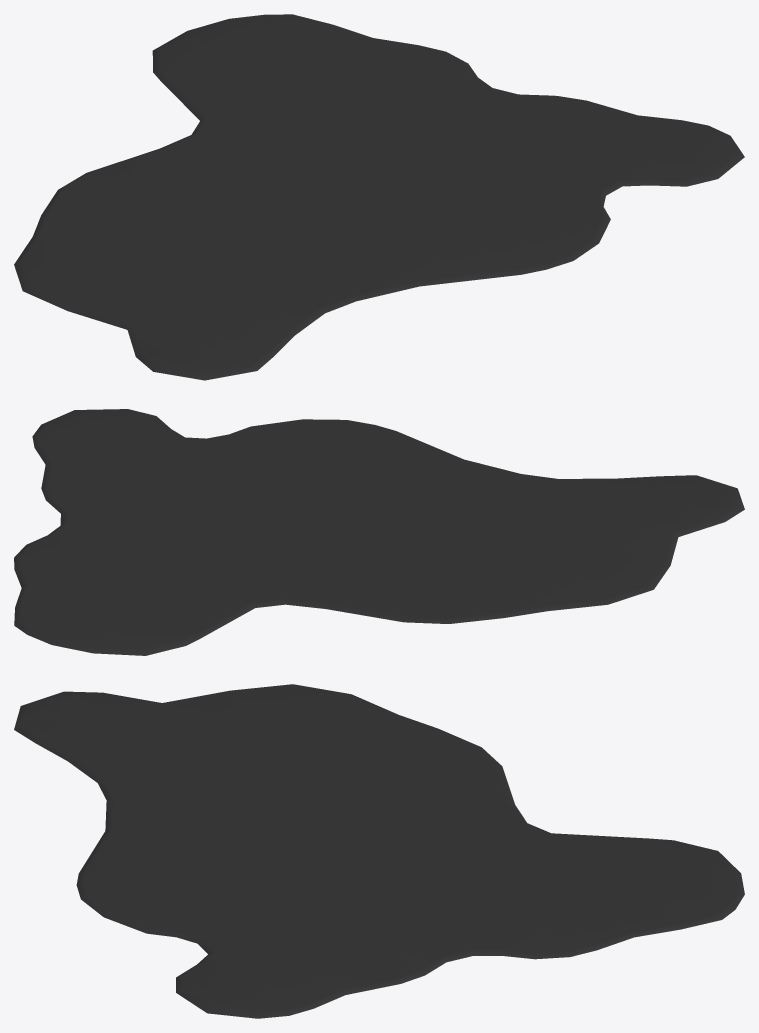
The model's file is oilStain.fbx.
3 views of the same model, one above another, from view 1: azimuth 30°, elevation 25°; view 2: azimuth 150°, elevation 25°; view 3: azimuth 270°, elevation 25° (orthographic). The views are drawn at different scales.
Parts seen in each view (by area): view 1: oilStain; view 2: oilStain; view 3: oilStain.
Part boxes in pixels (left/top/right/bottom): oilStain: left=14, top=14, right=744, bottom=380; oilStain: left=14, top=409, right=744, bottom=655; oilStain: left=14, top=684, right=744, bottom=1018.
Bounding box in the file's own units: 0.255 × 0.00108 × 0.2354.
Materials: 1 (1 with a texture image).
